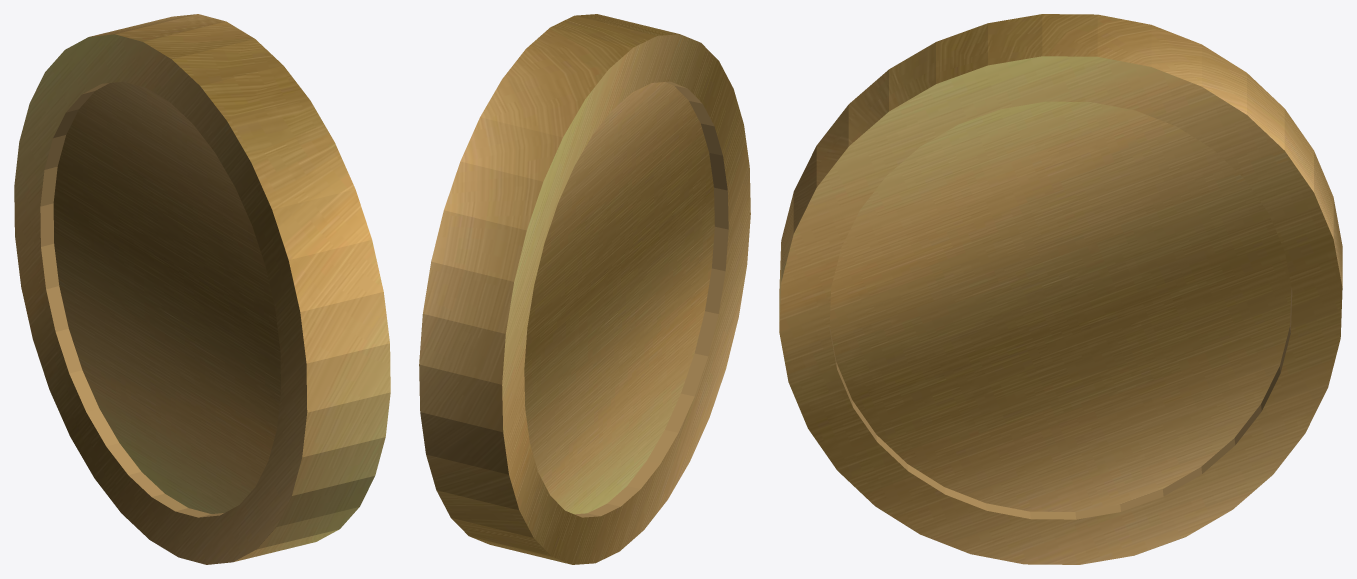
Rendered from coin.obj.
3 views of the same model, side by side, from view 1: azimuth 30°, elevation 25°; view 2: azimuth 150°, elevation 25°; view 3: azimuth 270°, elevation 25° (orthographic). The views are drawn at different scales.
Visible parts, largest first — view 1: Circle; view 2: Circle; view 3: Circle.
Part boxes in pixels (bbox=[...]): Circle: bbox=[14, 14, 390, 564]; Circle: bbox=[419, 14, 750, 564]; Circle: bbox=[779, 14, 1342, 564].
Bounding box in the file's own units: 0.4463 × 2 × 1.99.
1 material, 1 textured.
